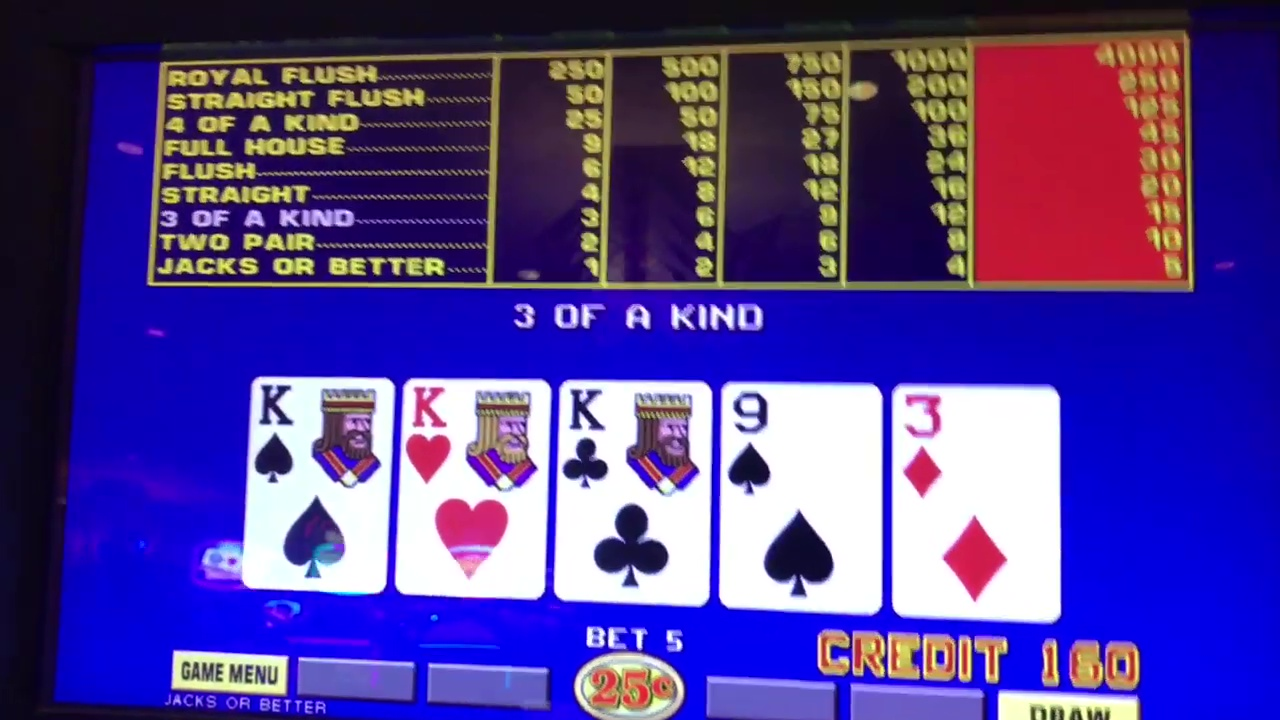CK: (567, 380, 703, 603)
D3: (897, 387, 1050, 619)
HK: (407, 379, 545, 598)
S9: (726, 383, 877, 613)
SK: (250, 378, 386, 589)
